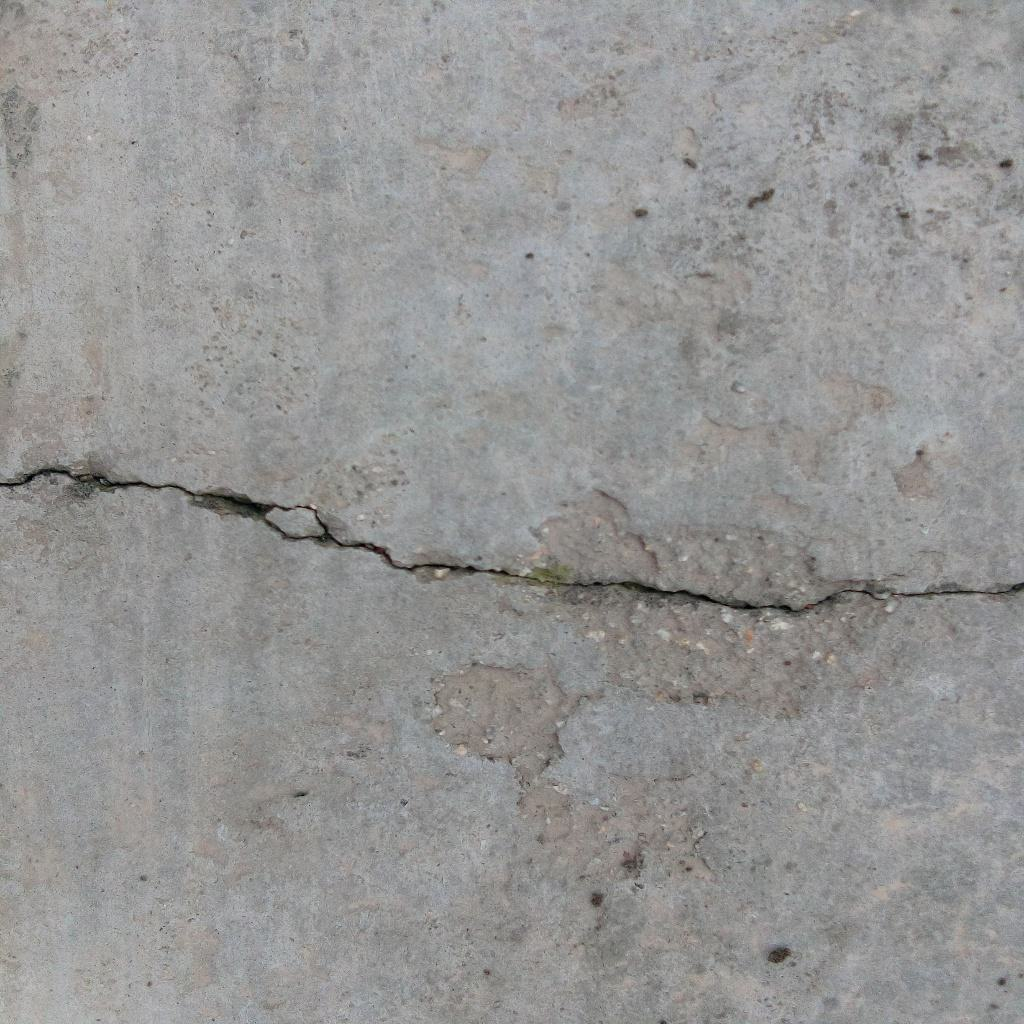Crack: (1, 465, 1024, 617)
Spalling: (521, 485, 896, 709), (521, 781, 712, 893), (430, 661, 574, 779)
